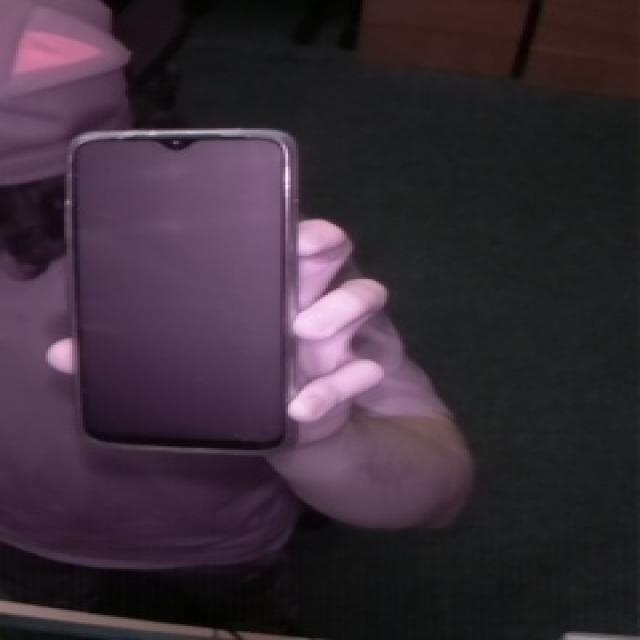phone: (42, 110, 332, 473)
